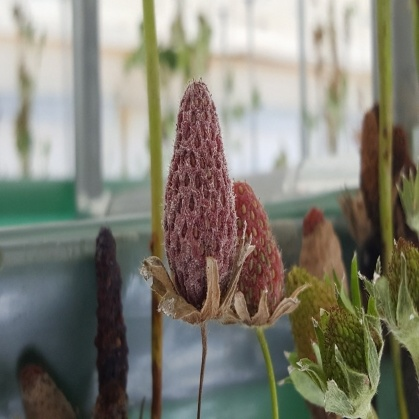Powdery_Fruit: (119, 92, 258, 328), (171, 101, 257, 339)
